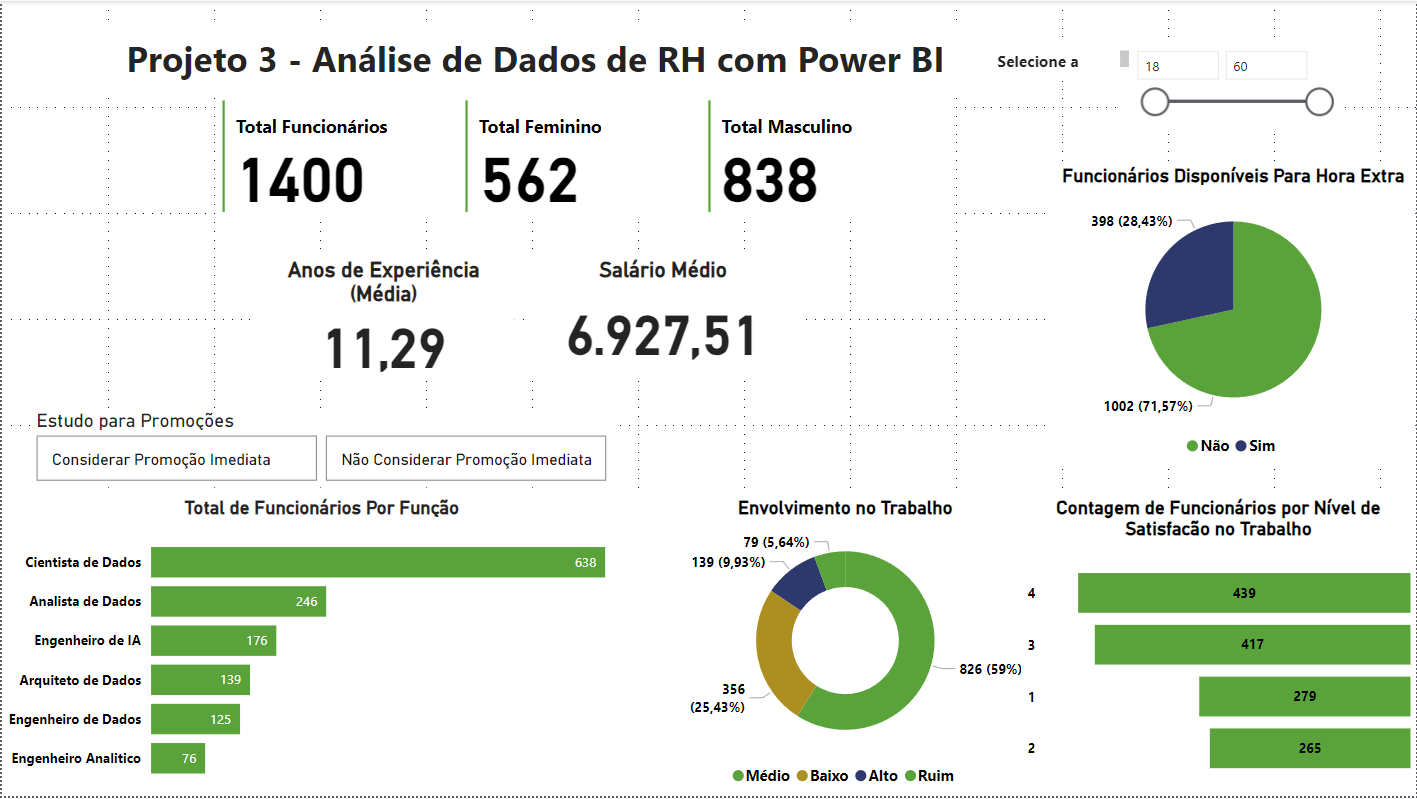

The dashboard page shown, as its layout file describes it:
{"tool":"powerbi","page":{"name":"DashboardRH","canvas":[1280,720],"ordinal":0},"visuals":[{"type":"cardVisual","title":"Total Funcionários","fields":{"Data":["Medidas.TotalFunc","Medidas.TotalFeminino","Medidas.TotalMasculino"]},"box":[195,84.9,663.9,111.2],"z":0},{"type":"card","title":"Salário Médio","fields":{"Values":["Medidas.SalarioMedio"]},"box":[474.9,231.4,248.6,109.1],"z":1000},{"type":"pieChart","title":"Funcionários Disponíveis Para Hora Extra","fields":{"Category":["DatasetRH.Disponivel_Hora_Extra"],"Y":["Medidas.TotalFunc"]},"box":[949.9,147.5,330.4,273.9],"z":6000},{"type":"barChart","title":"Total de Funcionários Por Função","fields":{"Category":["DatasetRH.Funcao"],"Y":["Medidas.TotalFunc"]},"box":[0,448.7,579.4,271.3],"z":7000},{"type":"textbox","box":[69.7,24.3,826.6,59.6],"z":8000},{"type":"slicer","fields":{"Values":["DatasetRH.Idade"]},"box":[1015,35.4,198.5,83],"z":9000},{"type":"card","title":"Anos de Experiência (Média)","fields":{"Values":["Avg(DatasetRH.Anos_Experiencia)"]},"box":[226.4,231.4,238.5,109.1],"z":10000},{"type":"donutChart","title":"Envolvimento no Trabalho","fields":{"Category":["DatasetRH.Envolvimento_Trabalho"],"Y":["Medidas.TotalFunc"]},"box":[578.8,448.3,370,272.2],"z":11000},{"type":"textbox","box":[896.6,40.1,128.6,28.9],"z":12000},{"type":"barChart","fields":{"Category":["DatasetRH.Nivel_Satisfacao_Trabalho"],"Y":["Count(DatasetRH.Id_Funcionario)"]},"box":[922.6,448.7,357.7,271.8],"z":12001},{"type":"advancedSlicerVisual","fields":{"Values":["DatasetRH.StatusPromo"]},"box":[26.3,369.9,527.5,70.7],"z":12002}]}

Visuals, with their boxes in screenshot pixels (x1, y1, x2, y2), scaled from the page's 1280x720 canvas onto the 1417x799 screenshot:
"Total Funcionários" cardVisual: region(216, 94, 951, 218)
"Salário Médio" card: region(526, 257, 801, 378)
"Funcionários Disponíveis Para Hora Extra" pieChart: region(1052, 164, 1416, 468)
"Total de Funcionários Por Função" barChart: region(0, 498, 641, 798)
textbox: region(77, 27, 992, 93)
slicer - DatasetRH.Idade: region(1124, 39, 1343, 131)
"Anos de Experiência (Média)" card: region(251, 257, 515, 378)
"Envolvimento no Trabalho" donutChart: region(641, 497, 1050, 798)
textbox: region(993, 44, 1135, 77)
barChart - DatasetRH.Nivel_Satisfacao_Trabalho x Count(DatasetRH.Id_Funcionario): region(1021, 498, 1416, 798)
advancedSlicerVisual - DatasetRH.StatusPromo: region(29, 410, 613, 489)
